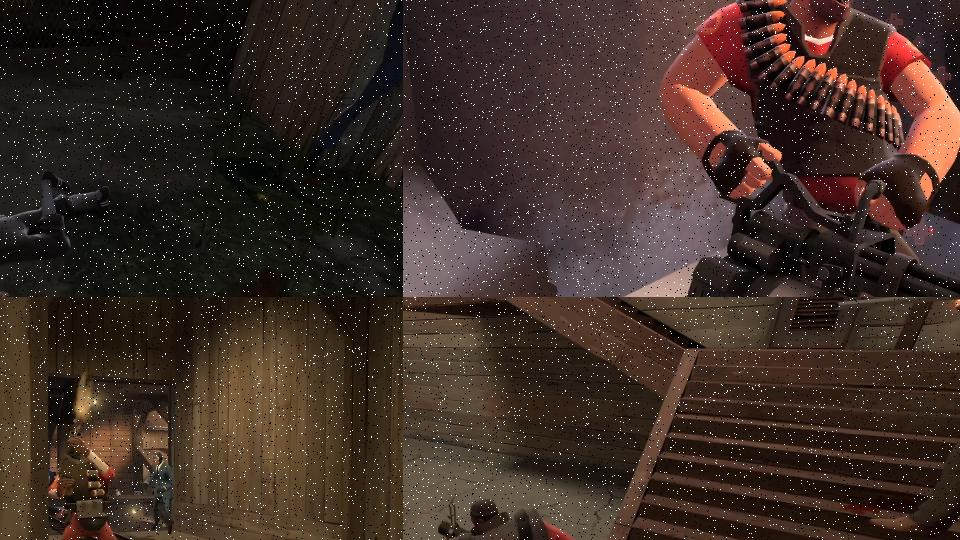Enemy: (657, 0, 960, 297), (304, 0, 403, 195), (0, 167, 113, 297), (45, 422, 125, 540), (430, 496, 586, 540), (140, 451, 176, 535)
